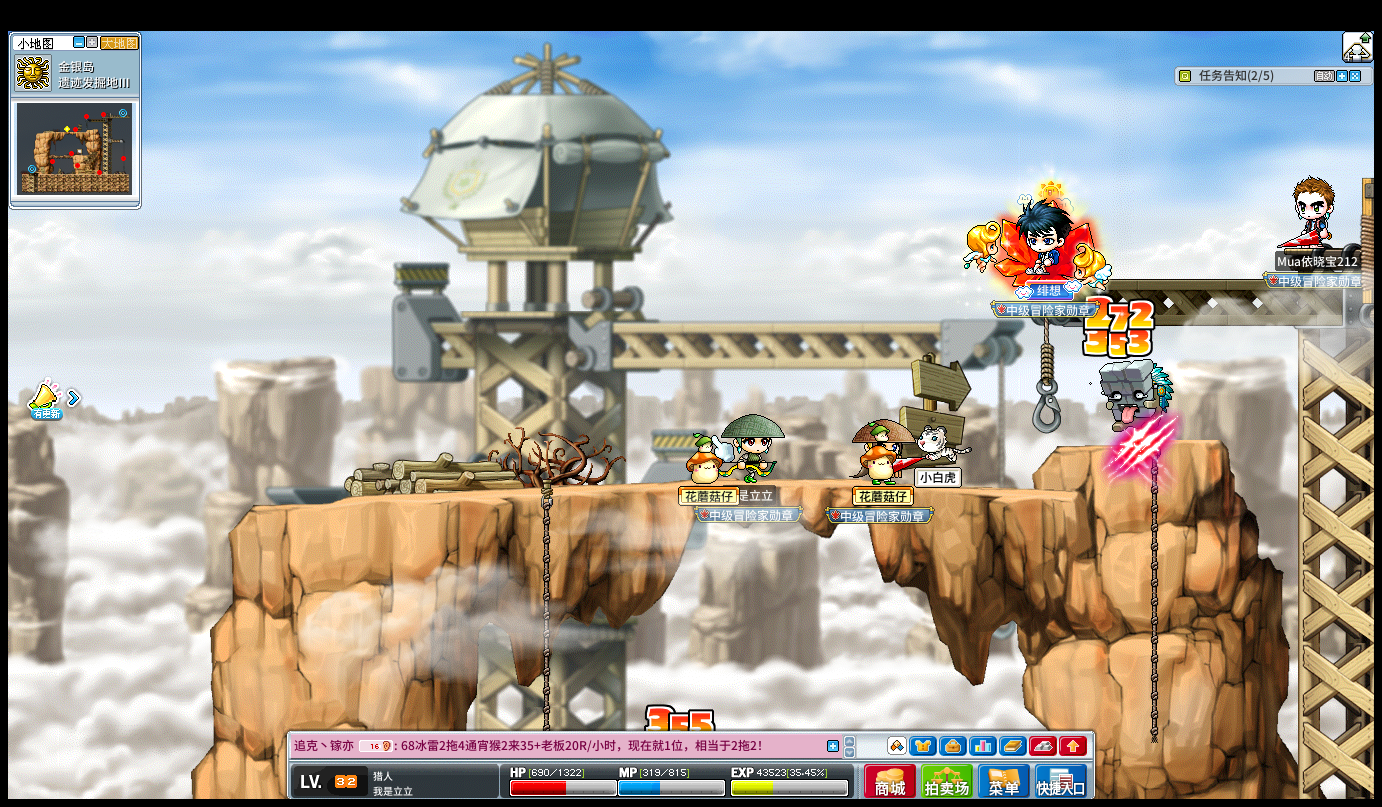floor: (227, 475, 1055, 507), (230, 475, 1122, 499), (1154, 436, 1225, 453)
monster: (1100, 357, 1174, 454)
rope: (1145, 443, 1161, 744), (540, 474, 552, 680)
